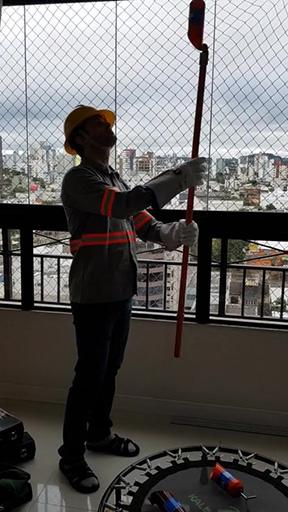Detector_Tensao_Contato: (209, 465, 255, 504)
Vara_Manobra: (172, 48, 208, 359)
